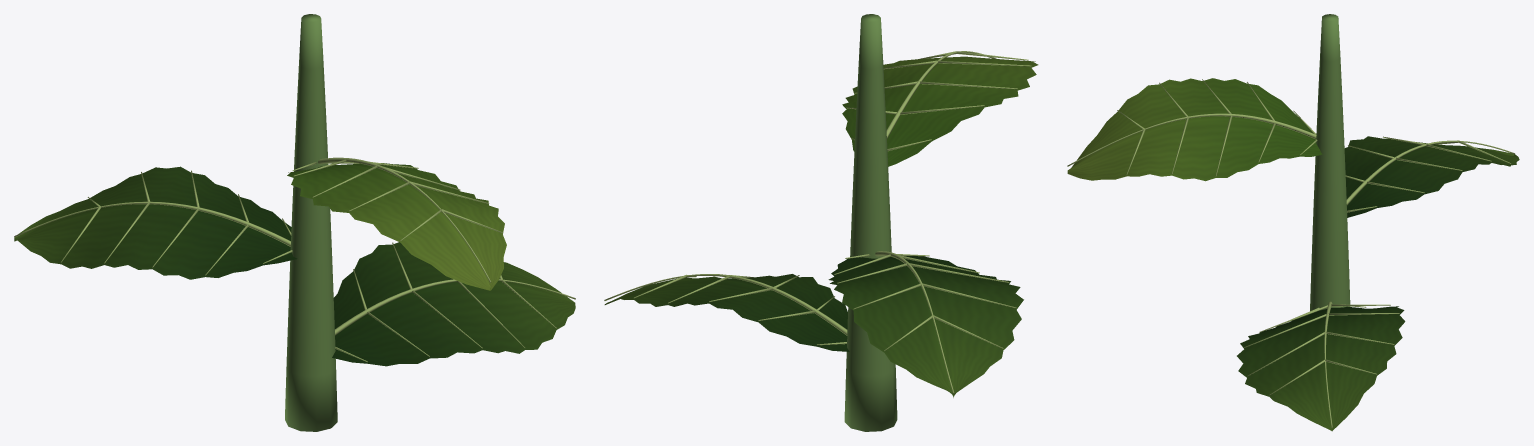
Rendered from dahlia-02.glb.
3 views of the same model, side by side, from view 1: azimuth 30°, elevation 25°; view 2: azimuth 150°, elevation 25°; view 3: azimuth 270°, elevation 25° (orthographic). The views are drawn at different scales.
Visible parts, largest first — view 1: dahlia_stage_02_leaf_veins.002, dahlia_stage_02_stem_fibres.002, dahlia_stage_02_young_leaf.002, dahlia_stage_02_raised_midveins.002; view 2: dahlia_stage_02_leaf_veins.002, dahlia_stage_02_stem_fibres.002, dahlia_stage_02_young_leaf.002, dahlia_stage_02_raised_midveins.002; view 3: dahlia_stage_02_leaf_veins.002, dahlia_stage_02_young_leaf.002, dahlia_stage_02_stem_fibres.002, dahlia_stage_02_raised_midveins.002.
Part boxes in pixels (box(x1,y1,x2,y2)): dahlia_stage_02_leaf_veins.002: box(14, 166, 575, 366); dahlia_stage_02_stem_fibres.002: box(285, 14, 337, 431); dahlia_stage_02_young_leaf.002: box(287, 163, 506, 290); dahlia_stage_02_raised_midveins.002: box(14, 157, 575, 362); dahlia_stage_02_leaf_veins.002: box(604, 256, 1023, 397); dahlia_stage_02_stem_fibres.002: box(844, 14, 897, 431); dahlia_stage_02_young_leaf.002: box(842, 56, 1038, 166); dahlia_stage_02_raised_midveins.002: box(604, 51, 1031, 393); dahlia_stage_02_leaf_veins.002: box(1237, 136, 1519, 431); dahlia_stage_02_young_leaf.002: box(1067, 78, 1322, 181); dahlia_stage_02_stem_fibres.002: box(1310, 14, 1350, 311); dahlia_stage_02_raised_midveins.002: box(1067, 79, 1514, 427).
Bounding box in the file's own units: 0.0802 × 0.0668 × 0.0788.
4 materials, 2 textured.
